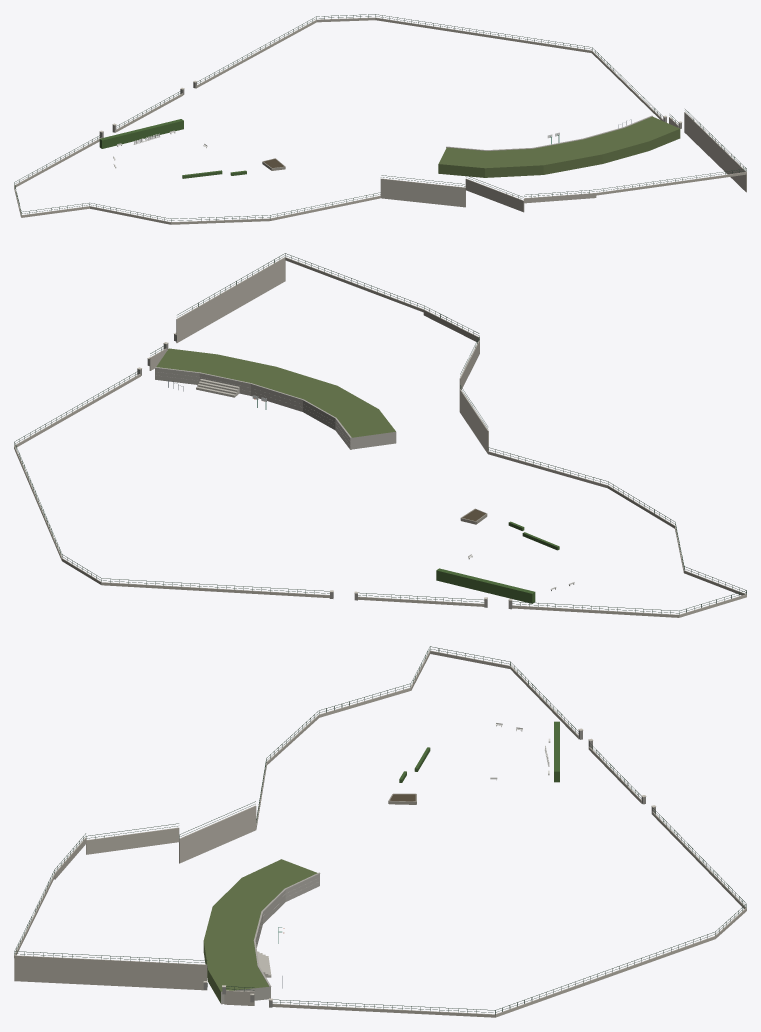
3 views of the same model, one above another, from view 1: azimuth 30°, elevation 25°; view 2: azimuth 150°, elevation 25°; view 3: azimuth 270°, elevation 25° (orthographic). The views are drawn at different scales.
Parts seen in each view (by area): view 1: site-wall-concrete, site-terrace-fill-earth, site-fence, site-hedge; view 2: site-wall-concrete, site-terrace-fill-earth, site-fence, site-retaining-wall-stone, site-hedge, site-retaining-wall-cap; view 3: site-wall-concrete, site-terrace-fill-earth, site-fence, site-retaining-wall-stone.
Part boxes in pixels (x1=…): site-wall-concrete: x1=14, y1=17, x2=746, y2=224; site-terrace-fill-earth: x1=438, y1=116, x2=680, y2=177; site-fence: x1=14, y1=14, x2=746, y2=221; site-hedge: x1=99, y1=119, x2=246, y2=178; site-wall-concrete: x1=14, y1=257, x2=746, y2=617; site-terrace-fill-earth: x1=156, y1=348, x2=395, y2=437; site-fence: x1=14, y1=253, x2=746, y2=614; site-retaining-wall-stone: x1=155, y1=368, x2=396, y2=449; site-hedge: x1=436, y1=521, x2=559, y2=603; site-retaining-wall-cap: x1=154, y1=367, x2=351, y2=444; site-wall-concrete: x1=14, y1=650, x2=746, y2=1017; site-terrace-fill-earth: x1=203, y1=859, x2=317, y2=1003; site-fence: x1=14, y1=646, x2=746, y2=1014; site-retaining-wall-stone: x1=221, y1=874, x2=319, y2=1004.
Size of the model in its own units: 226 by 12.52 by 193.
